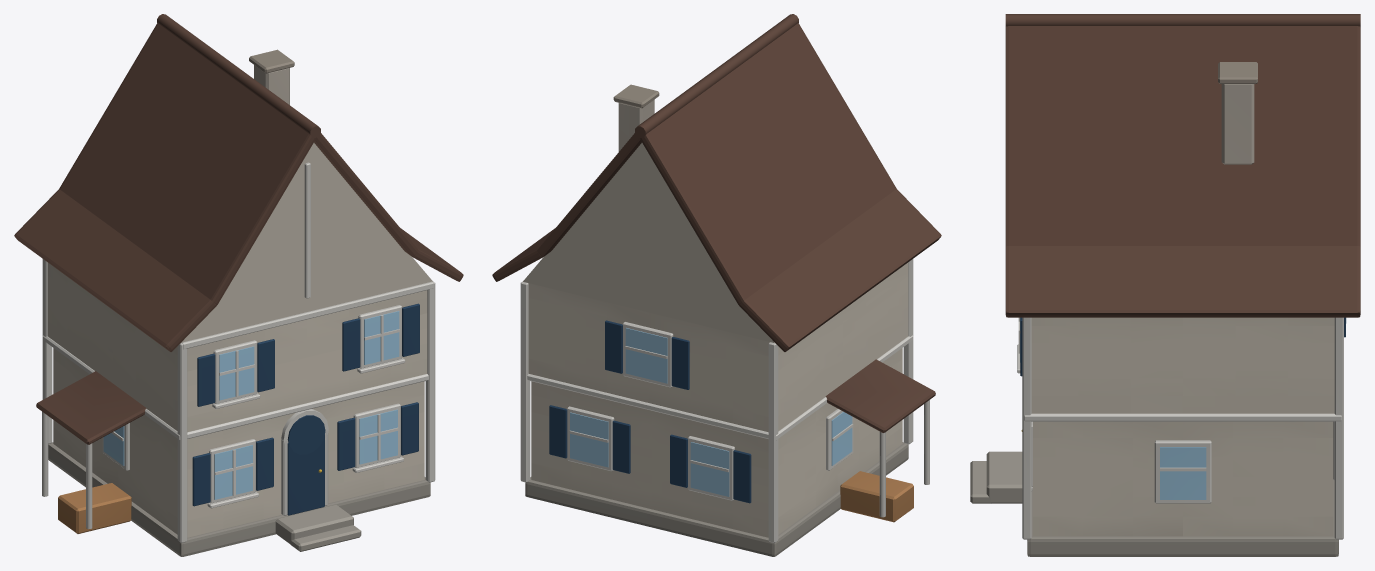
The model's file is cottage-3.glb.
3 renders of one model, left to right at view 1: azimuth 30°, elevation 25°; view 2: azimuth 150°, elevation 25°; view 3: azimuth 270°, elevation 25°, orthographic. The views are drawn at different scales.
Parts seen in each view (by area): view 1: cottage-3; view 2: cottage-3; view 3: cottage-3.
Part boxes in pixels (left/top/right/bottom): cottage-3: left=14, top=14, right=463, bottom=556; cottage-3: left=492, top=14, right=941, bottom=556; cottage-3: left=970, top=14, right=1360, bottom=556.
Bounding box in the file's own units: 9.62 × 11.22 × 8.4.
